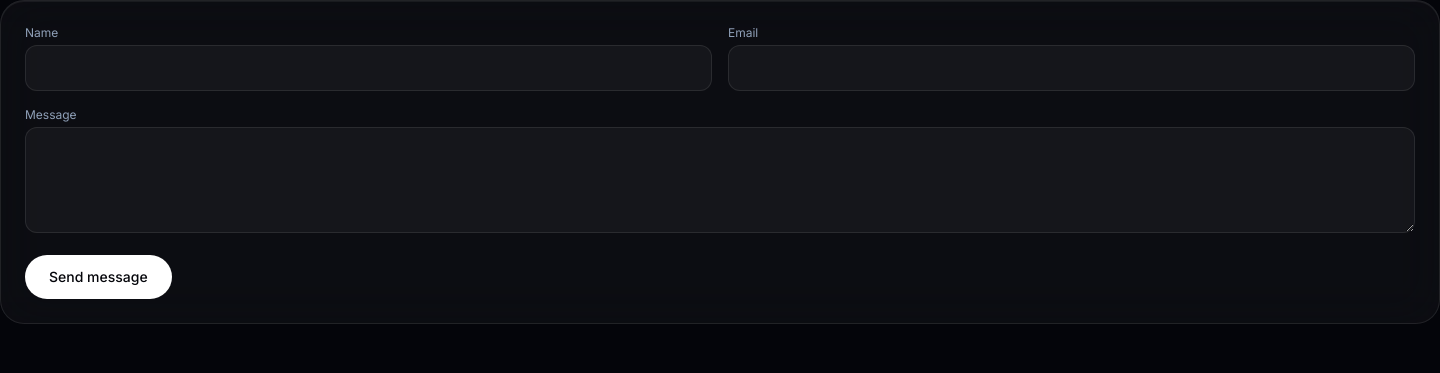
Test case: ContactForm › shows the error when sending fails
The image size is (1440, 373).
Type "Ada" into the field labelled "Name" at [368, 68], box [25,45,712,91]
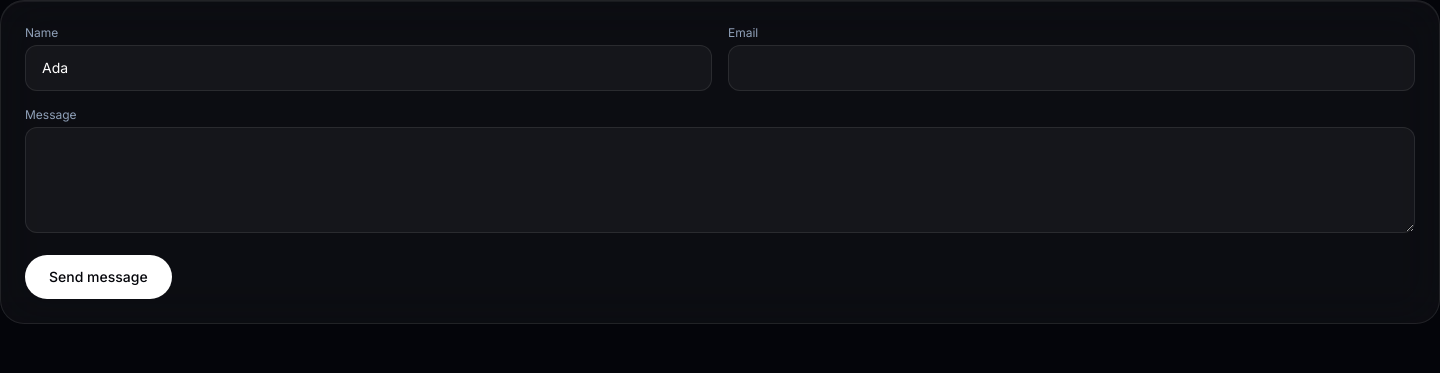
Type "ada@example.com" into the field labelled "Email" at [1072, 68], box [728,45,1415,91]
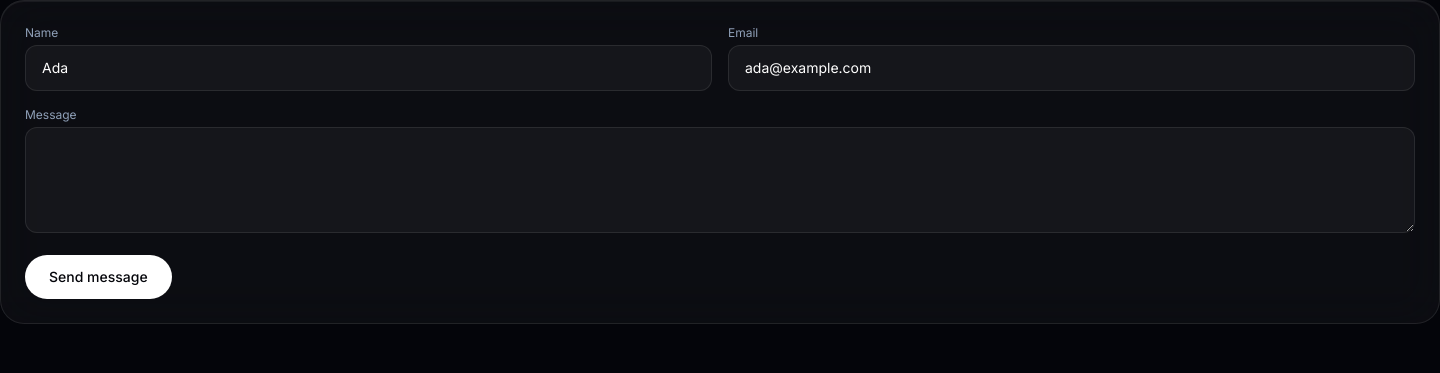
Type "Hello there, I have a role for you." into the text box labelled "Message" at [720, 180], box [25,127,1415,233]
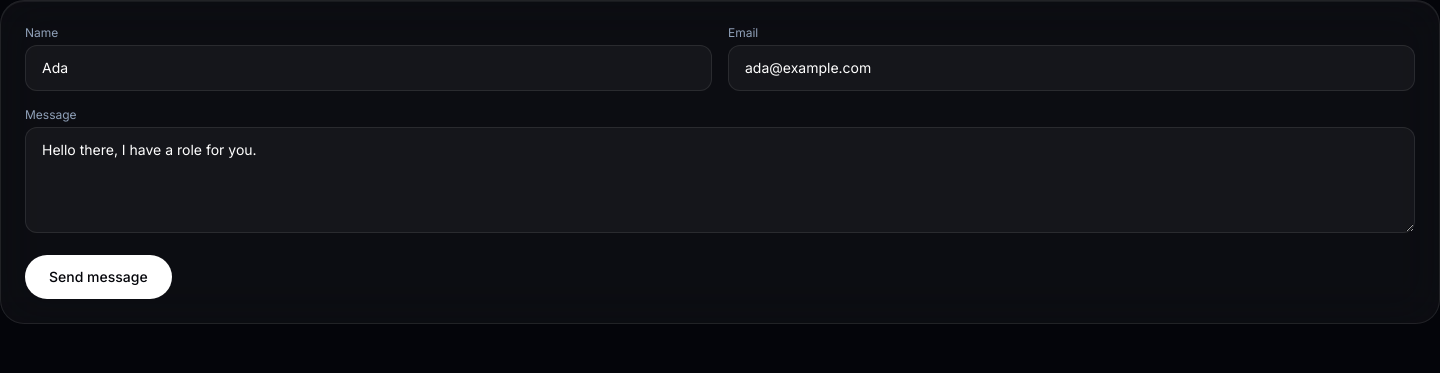
Click the button "Send message" at [98, 277], box [25,255,172,299]
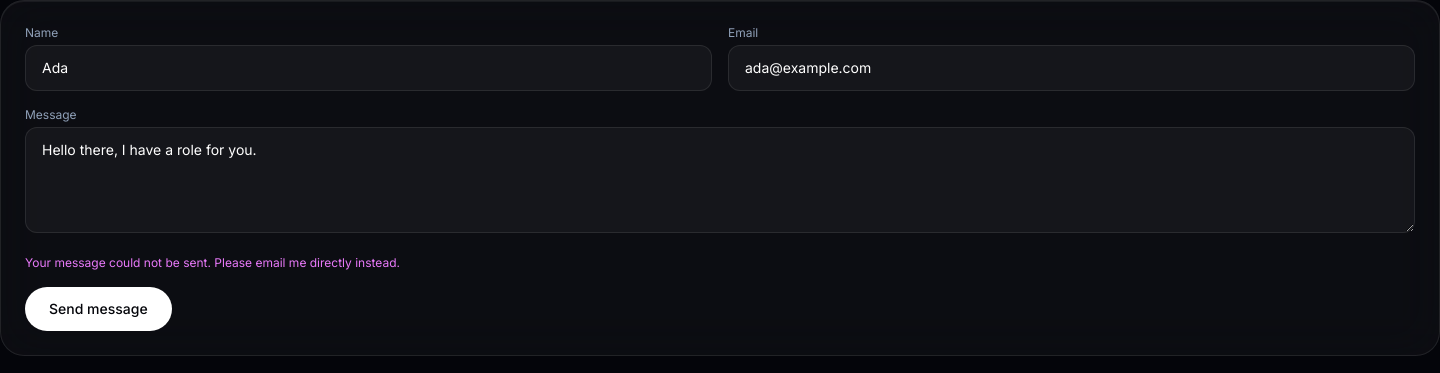
Expected: the message shows "could not be sent", [25,255,400,270]
